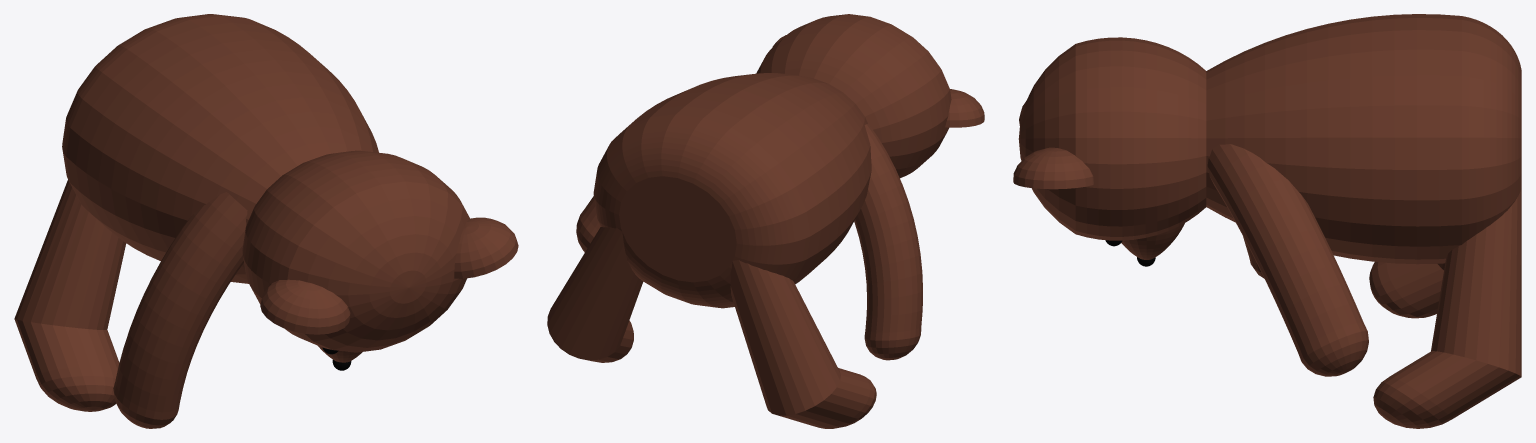
The picture shows the model from 3 angles, left to right: view 1: azimuth 30°, elevation 25°; view 2: azimuth 150°, elevation 25°; view 3: azimuth 270°, elevation 25°; orthographic projection. The views are drawn at different scales.
Parts seen in each view (by area): view 1: ours en peluche teddy bears; view 2: ours en peluche teddy bears; view 3: ours en peluche teddy bears.
Boxes of the visible parts, x1,y1,x2,y2 form: ours en peluche teddy bears: (14,14,518,428); ours en peluche teddy bears: (547,14,984,428); ours en peluche teddy bears: (1013,14,1521,428).
Bounding box in the file's own units: 10.95 × 9.45 × 12.7.
